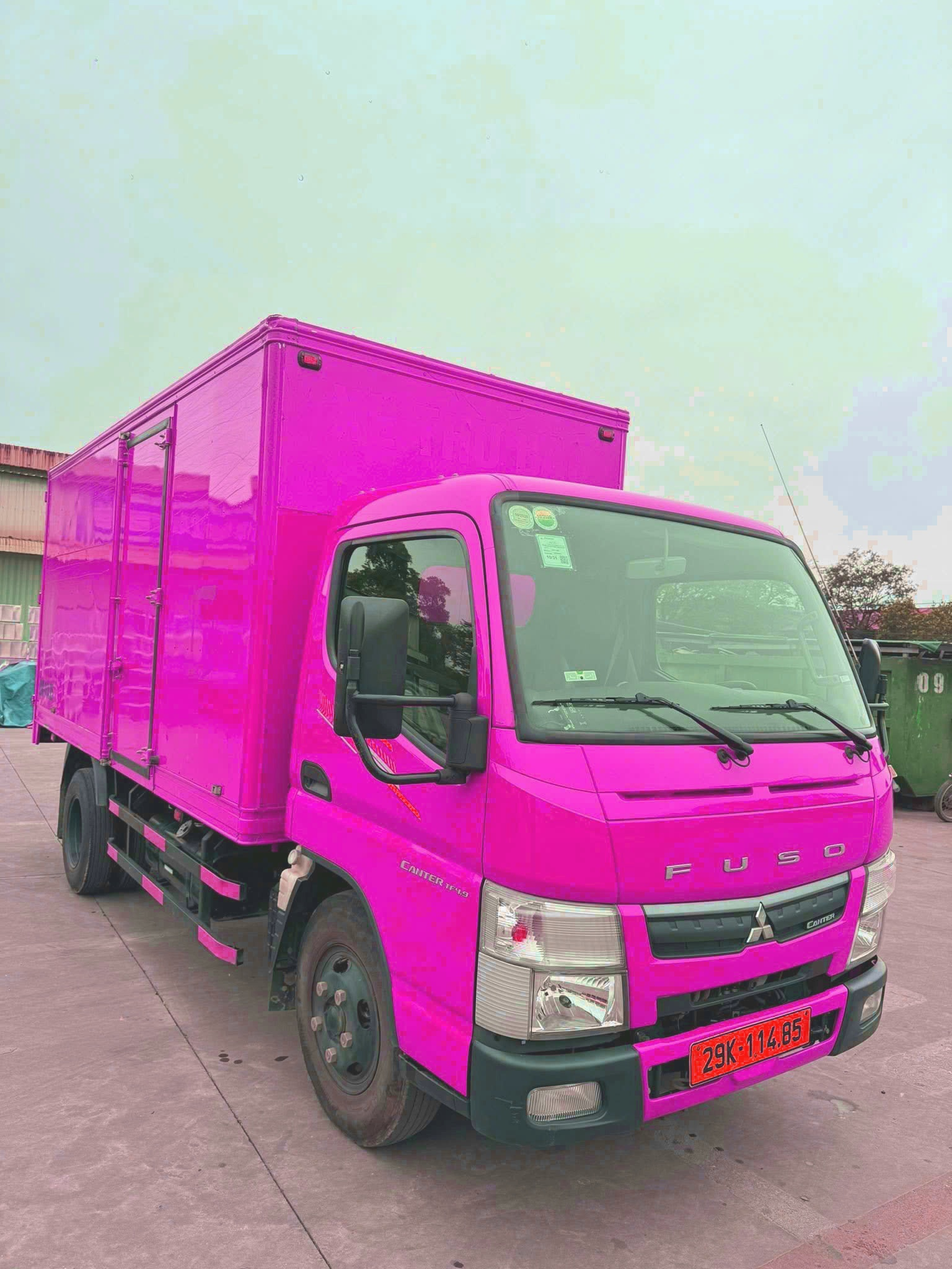Bien-so: (738, 1020, 860, 1112)
